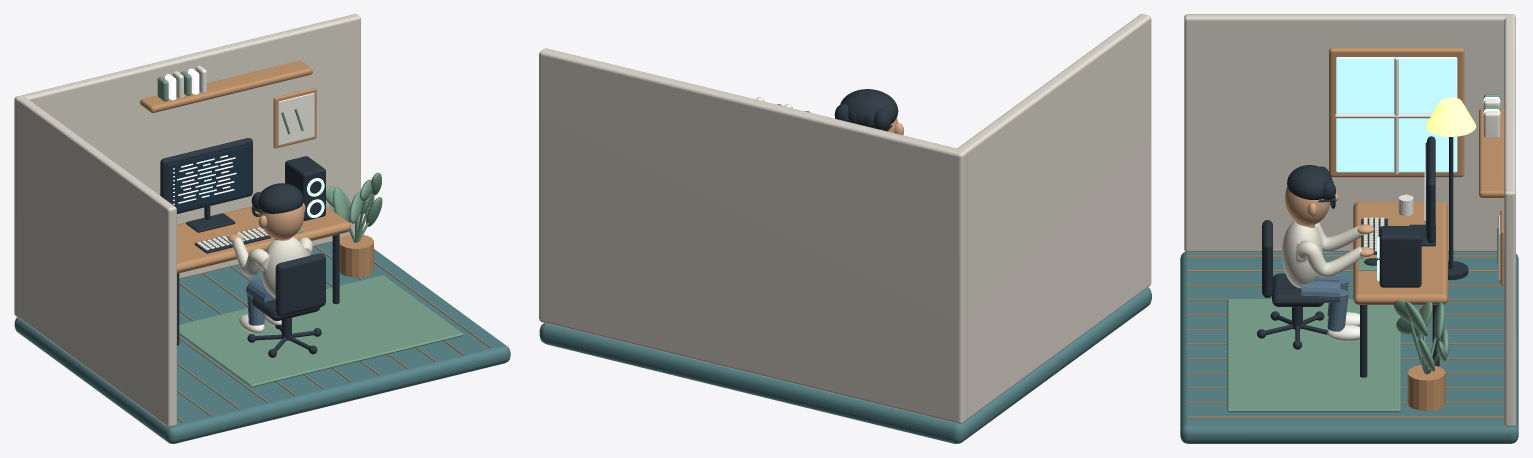
The model's file is studio-mobile.glb.
The picture shows the model from 3 angles, left to right: view 1: azimuth 30°, elevation 25°; view 2: azimuth 150°, elevation 25°; view 3: azimuth 270°, elevation 25°; orthographic projection. The views are drawn at different scales.
Visible parts, largest first — view 1: Left wall, Back wall, Room foundation, Rug, Desktop, Screen, Chair back, Floating shelf, Sweatshirt, PC tower, Print paper, Monitor (+7 smaller); view 2: Back wall, Left wall, Room foundation, Hair cap; view 3: Left wall, Room foundation, Rug, Window sky, Desktop, Back wall, Window frame, Sweatshirt, PC tower, Floating shelf, Plant pot, Lamp shade (+16 smaller).
Part boxes in pixels (<box>): Left wall: <box>18,96,176,427</box>; Back wall: <box>14,14,360,317</box>; Room foundation: <box>14,242,510,443</box>; Rug: <box>179,275,463,387</box>; Desktop: <box>177,206,350,273</box>; Screen: <box>167,145,250,211</box>; Chair back: <box>275,253,325,316</box>; Floating shelf: <box>140,60,312,112</box>; Sweatshirt: <box>232,236,312,297</box>; PC tower: <box>285,156,325,220</box>; Print paper: <box>278,93,314,145</box>; Monitor: <box>160,138,252,213</box>; Back wall: <box>539,48,967,424</box>; Left wall: <box>956,14,1151,419</box>; Room foundation: <box>539,287,1151,443</box>; Hair cap: <box>840,89,898,125</box>; Left wall: <box>1184,14,1507,252</box>; Room foundation: <box>1180,251,1518,443</box>; Rug: <box>1227,299,1400,412</box>; Window sky: <box>1336,57,1457,172</box>; Desktop: <box>1353,201,1447,304</box>; Back wall: <box>1504,14,1515,426</box>; Window frame: <box>1329,47,1464,177</box>; Sweatshirt: <box>1282,220,1363,288</box>; PC tower: <box>1379,226,1421,287</box>; Floating shelf: <box>1479,108,1504,197</box>; Plant pot: <box>1407,365,1445,411</box>; Lamp shade: <box>1426,97,1476,136</box>.
Bounding box in the file's own units: 5.4 × 3.56 × 4.3.
